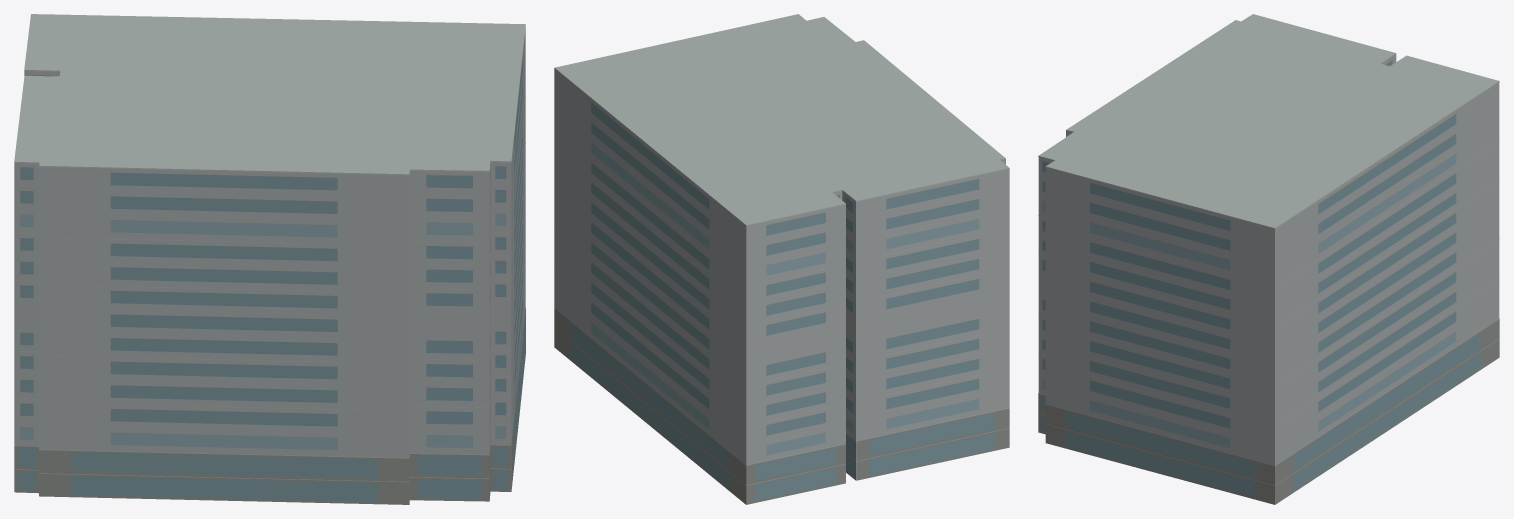
File: survey-upis-33038009.glb
3 renders of one model, left to right at view 1: azimuth 30°, elevation 25°; view 2: azimuth 150°, elevation 25°; view 3: azimuth 270°, elevation 25°, orthographic. The views are drawn at different scales.
Parts seen in each view (by area): view 1: survey-upis-33038009.tmp; view 2: survey-upis-33038009.tmp; view 3: survey-upis-33038009.tmp.
Part boxes in pixels (x1,y1,x2,y2): survey-upis-33038009.tmp: [14, 14, 525, 504]; survey-upis-33038009.tmp: [554, 14, 1009, 504]; survey-upis-33038009.tmp: [1038, 14, 1499, 504].
Size of the model in its own units: 92.18 by 55.5 by 83.82.
